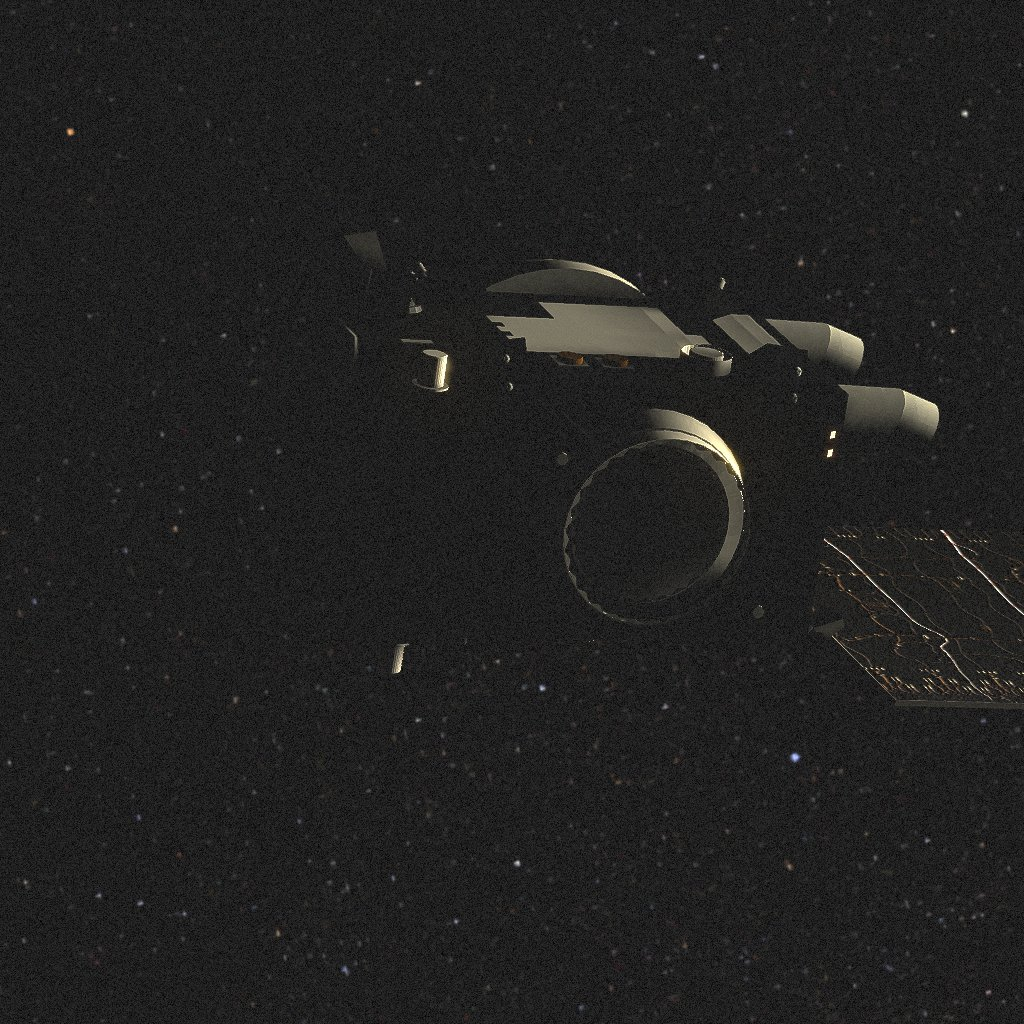proba_3_csc: (293, 228, 1004, 706)
